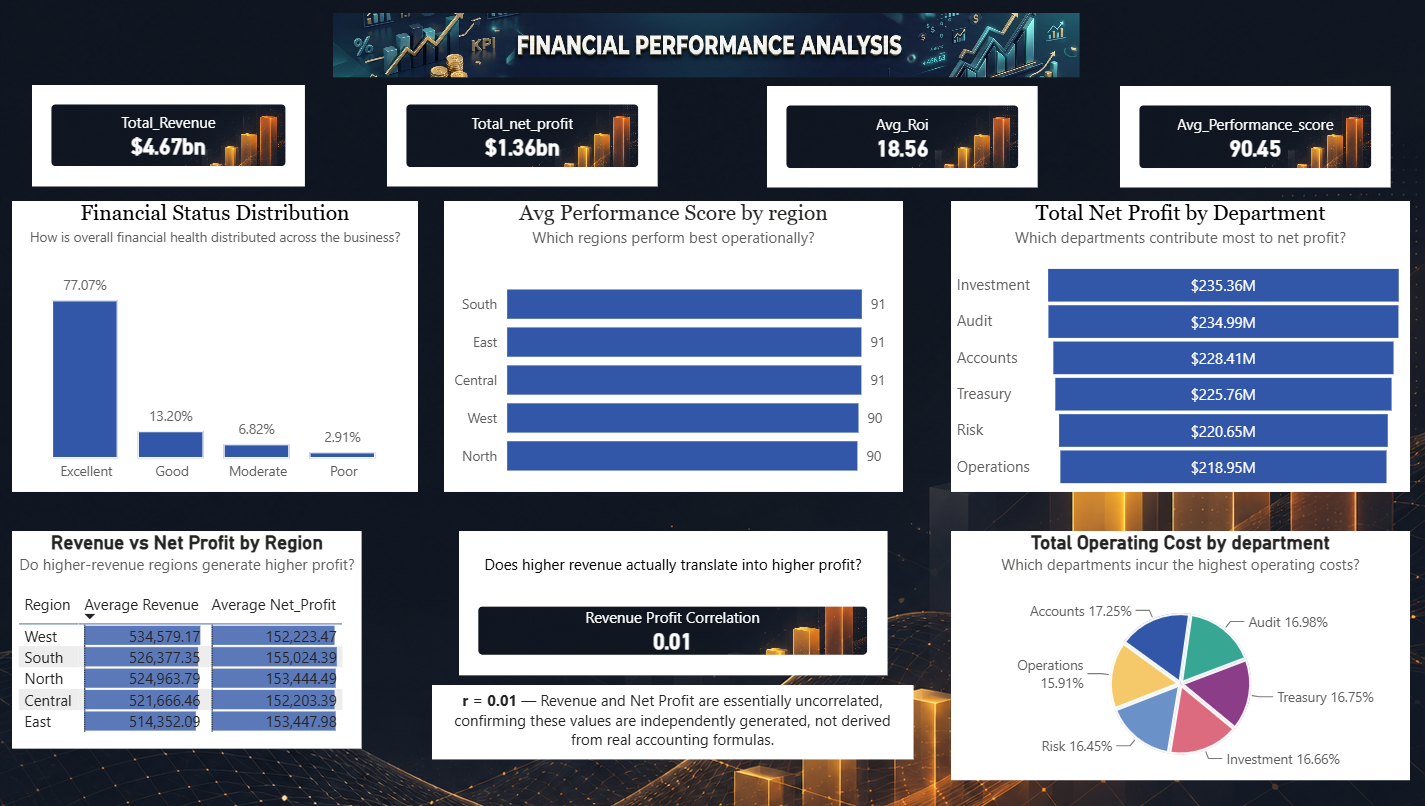

The dashboard page shown, as its layout file describes it:
{"tool":"powerbi","page":{"name":"Daashboard","canvas":[1280,720],"ordinal":0},"visuals":[{"type":"cardVisual","fields":{"Data":["public financial_management.Total_Revenue"]},"box":[41.7,77.1,242.1,89.6],"z":0},{"type":"cardVisual","fields":{"Data":["public financial_management.Total_net_profit"]},"box":[356.5,77.1,240,90],"z":1000},{"type":"cardVisual","fields":{"Data":["public financial_management.Avg_Roi"]},"box":[693.4,78,240,90],"z":2000},{"type":"cardVisual","fields":{"Data":["public financial_management.Avg_Performance_score"]},"box":[1006.7,77.6,240,90],"z":3000},{"type":"columnChart","title":"Financial Status Distribution","fields":{"Category":["public financial_management.financial_status"],"Y":["CountNonNull(public financial_management.transaction_id)"]},"box":[23.9,180,360,258],"z":4000},{"type":"barChart","title":"Avg Performance Score by region","fields":{"Category":["public financial_management.region"],"Y":["public financial_management.Avg_Performance_score"]},"box":[406.6,180.1,407,258],"z":5000},{"type":"funnel","title":"Total Net Profit by Department","fields":{"Y":["public financial_management.Total_net_profit"],"Category":["public financial_management.department"]},"box":[856.9,180.1,407,258],"z":6000},{"type":"cardVisual","title":"Revenue Profit Correlation?","fields":{"Data":["public financial_management.Revenue Profit Correlation"]},"box":[420.3,472.5,379.5,127.7],"z":7000},{"type":"textbox","box":[396.4,609,426.5,65.6],"z":8000},{"type":"tableEx","title":"Revenue vs Net Profit by Region","fields":{"Values":["public financial_management.region","Avg(public financial_management.revenue)","Avg(public financial_management.net_profit)"]},"box":[23.9,472.5,310.3,193.3],"z":9000},{"type":"pieChart","fields":{"Category":["public financial_management.department"],"Y":["public financial_management.Total_Operating_Cost"]},"box":[856.6,472.5,407,220.8],"z":10000},{"type":"image","box":[308.8,13.3,662.3,56.7],"z":11000}]}

Visuals, with their boxes in screenshot pixels (x1, y1, x2, y2), scaled from the page's 1280x720 canvas onto the 1425x806 screenshot:
cardVisual - public financial_management.Total_Revenue: <box>46,86,316,187</box>
cardVisual - public financial_management.Total_net_profit: <box>397,86,664,187</box>
cardVisual - public financial_management.Avg_Roi: <box>772,87,1039,188</box>
cardVisual - public financial_management.Avg_Performance_score: <box>1121,87,1388,188</box>
"Financial Status Distribution" columnChart: <box>27,202,427,490</box>
"Avg Performance Score by region" barChart: <box>453,202,906,490</box>
"Total Net Profit by Department" funnel: <box>954,202,1407,490</box>
"Revenue Profit Correlation?" cardVisual: <box>468,529,890,672</box>
textbox: <box>441,682,916,755</box>
"Revenue vs Net Profit by Region" tableEx: <box>27,529,372,745</box>
pieChart - public financial_management.department x public financial_management.Total_Operating_Cost: <box>954,529,1407,776</box>
image: <box>344,15,1081,78</box>
